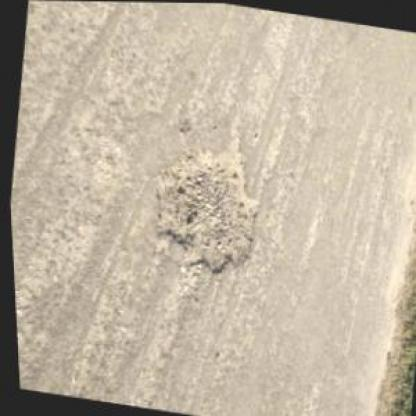pothole: (135, 122, 269, 283)
